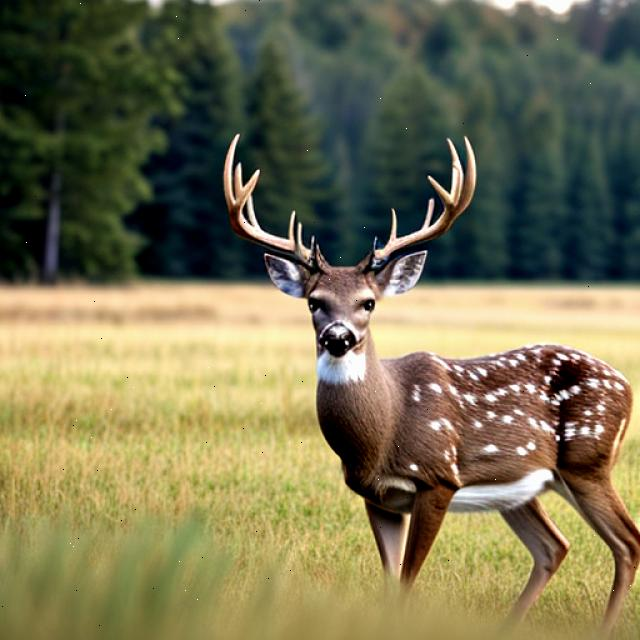deer: (189, 107, 640, 631)
